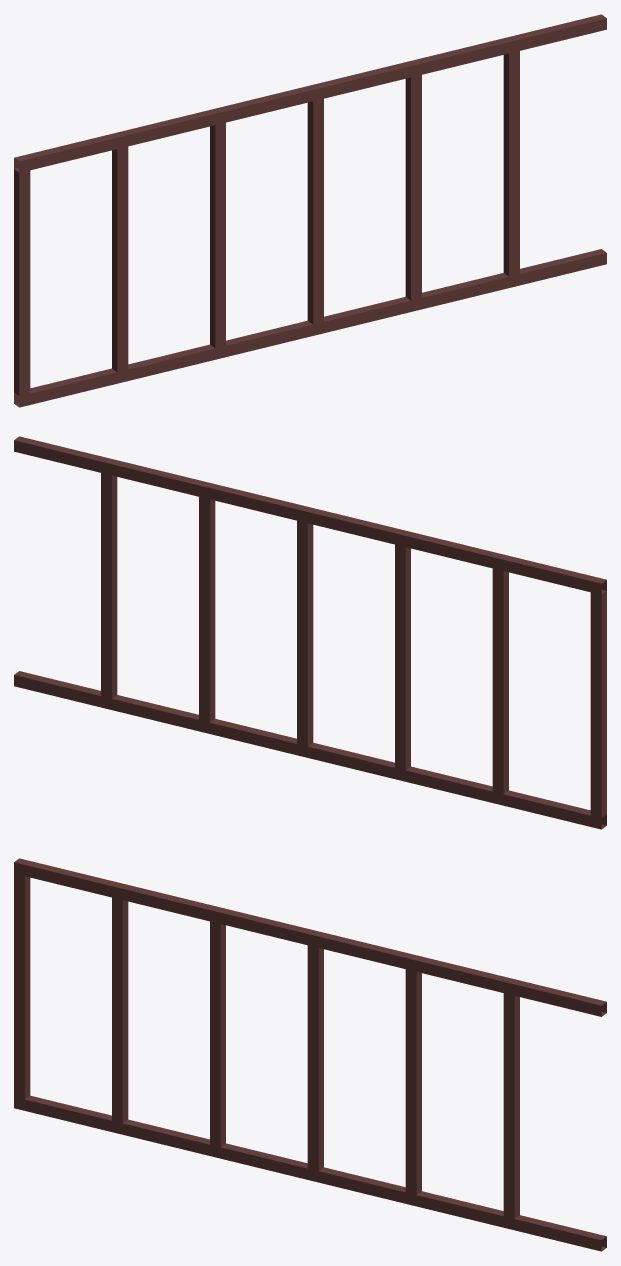
Rendered from DBK_WinWide_Wood_Long_Tile.fbx.
The picture shows the model from 3 angles, top to bottom: view 1: azimuth 30°, elevation 25°; view 2: azimuth 150°, elevation 25°; view 3: azimuth 330°, elevation 25°; orthographic projection.
Parts seen in each view (by area): view 1: DBK_WinWide_Wood_Long_Tile; view 2: DBK_WinWide_Wood_Long_Tile; view 3: DBK_WinWide_Wood_Long_Tile.
Boxes of the visible parts, bbox=[...] form: DBK_WinWide_Wood_Long_Tile: bbox=[14, 14, 606, 407]; DBK_WinWide_Wood_Long_Tile: bbox=[14, 436, 606, 829]; DBK_WinWide_Wood_Long_Tile: bbox=[14, 858, 606, 1251].
Bounding box in the file's own units: 300 × 120 × 4.75.
